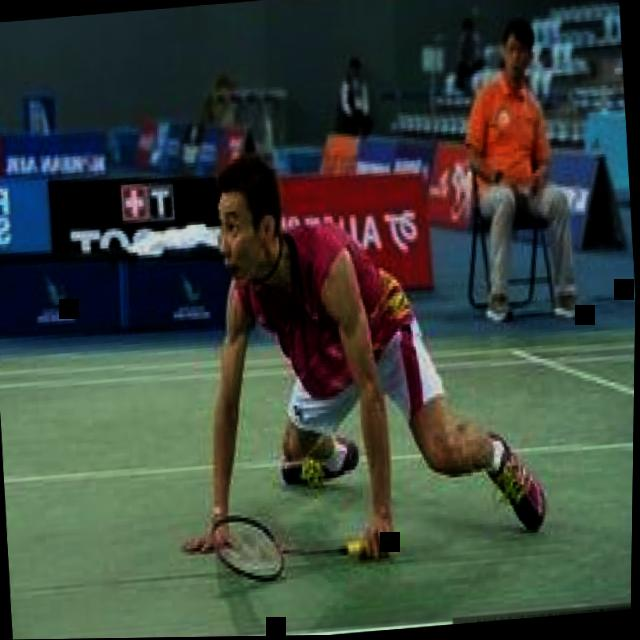Fall-Detected: (160, 120, 551, 576)
